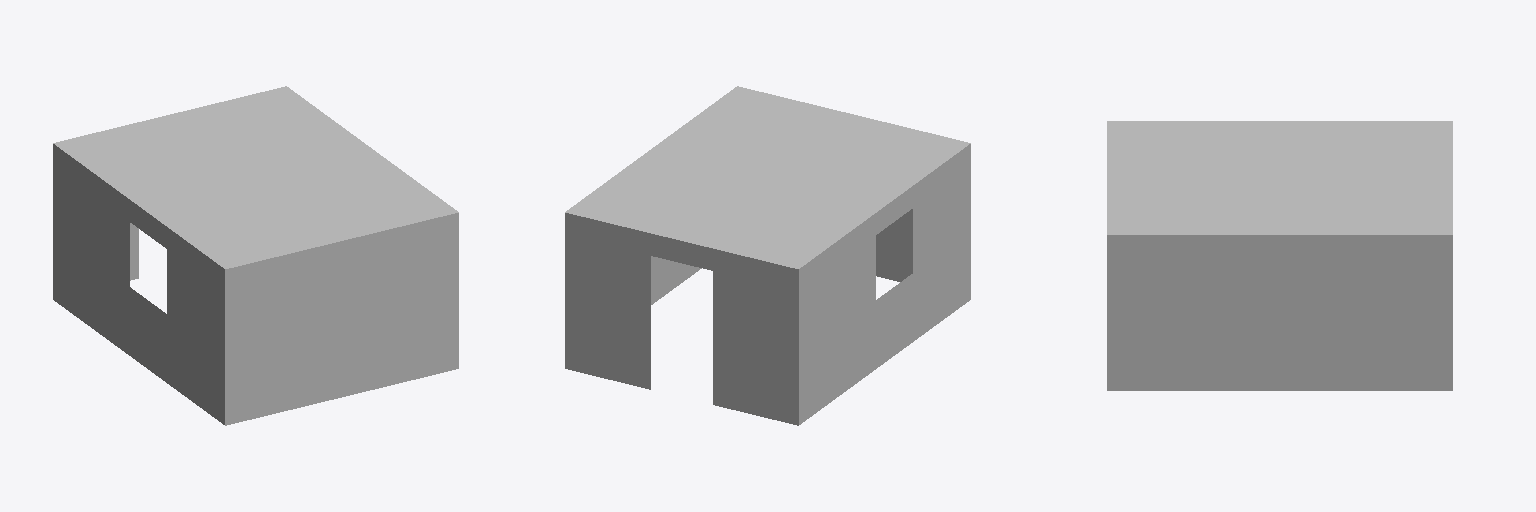
File: roomInside.obj
3 views of the same model, side by side, from view 1: azimuth 30°, elevation 25°; view 2: azimuth 150°, elevation 25°; view 3: azimuth 270°, elevation 25° (orthographic).
Parts seen in each view (by area): view 1: room_Cube.001; view 2: room_Cube.001; view 3: room_Cube.001.
Part boxes in pixels (bbox=[...]): room_Cube.001: bbox=[53, 86, 458, 425]; room_Cube.001: bbox=[565, 86, 970, 425]; room_Cube.001: bbox=[1107, 121, 1452, 390].
Bounding box in the file's own units: 3.6 × 2.3 × 4.6.